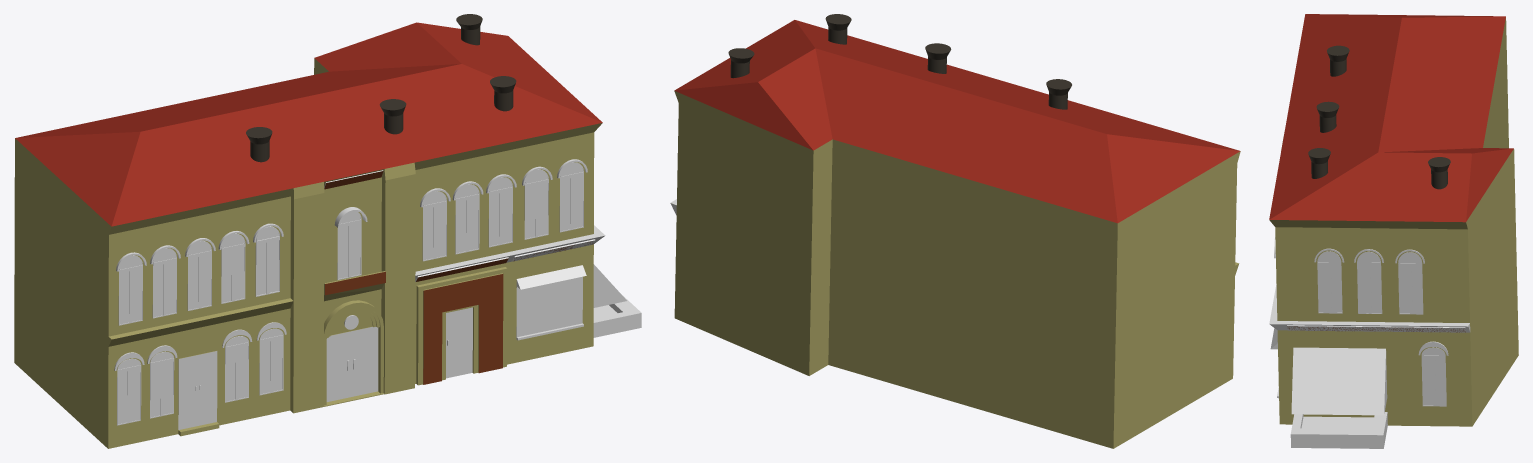
Rendered from hotel_moskva.fbx.
3 views of the same model, side by side, from view 1: azimuth 30°, elevation 25°; view 2: azimuth 150°, elevation 25°; view 3: azimuth 270°, elevation 25° (orthographic). The views are drawn at different scales.
Parts seen in each view (by area): view 1: SketchUp, SketchUp.001, SketchUp.214, SketchUp.202, SketchUp.207, SketchUp.197, SketchUp.203, SketchUp.212, SketchUp.024, SketchUp.209, SketchUp.211, SketchUp.140 (+4 smaller); view 2: SketchUp, SketchUp.001, SketchUp.002, SketchUp.004, SketchUp.006, SketchUp.007; view 3: SketchUp.001, SketchUp, SketchUp.211, SketchUp.212, SketchUp.024, SketchUp.146, SketchUp.007, SketchUp.004, SketchUp.006, SketchUp.002, SketchUp.048, SketchUp.164 (+10 smaller).
Boxes of the visible parts, x1,y1,x2,y2 form: SketchUp: [14, 58, 602, 448]; SketchUp.001: [15, 22, 602, 226]; SketchUp.214: [423, 274, 503, 384]; SketchUp.202: [326, 327, 378, 401]; SketchUp.207: [516, 276, 582, 337]; SketchUp.197: [178, 351, 217, 429]; SketchUp.203: [446, 307, 472, 378]; SketchUp.212: [593, 295, 641, 337]; SketchUp.024: [415, 225, 605, 279]; SketchUp.209: [516, 265, 586, 289]; SketchUp.211: [593, 264, 626, 307]; SketchUp.140: [325, 271, 385, 295]; SketchUp: [674, 91, 1240, 448]; SketchUp.001: [674, 20, 1240, 223]; SketchUp.002: [825, 14, 851, 44]; SketchUp.004: [925, 43, 951, 73]; SketchUp.006: [1046, 79, 1071, 109]; SketchUp.007: [728, 48, 754, 78]; SketchUp.001: [1269, 14, 1513, 222]; SketchUp: [1269, 18, 1518, 426]; SketchUp.211: [1291, 347, 1387, 415]; SketchUp.212: [1290, 412, 1387, 448]; SketchUp.024: [1269, 284, 1469, 332]; SketchUp.146: [1287, 326, 1465, 332]; SketchUp.007: [1428, 157, 1450, 189]; SketchUp.004: [1316, 101, 1339, 132]; SketchUp.006: [1327, 45, 1349, 76]; SketchUp.002: [1308, 148, 1330, 178]; SketchUp.048: [1411, 266, 1422, 313]; SketchUp.164: [1422, 358, 1433, 405].
Bounding box in the file's own units: 285 × 142 × 128.
